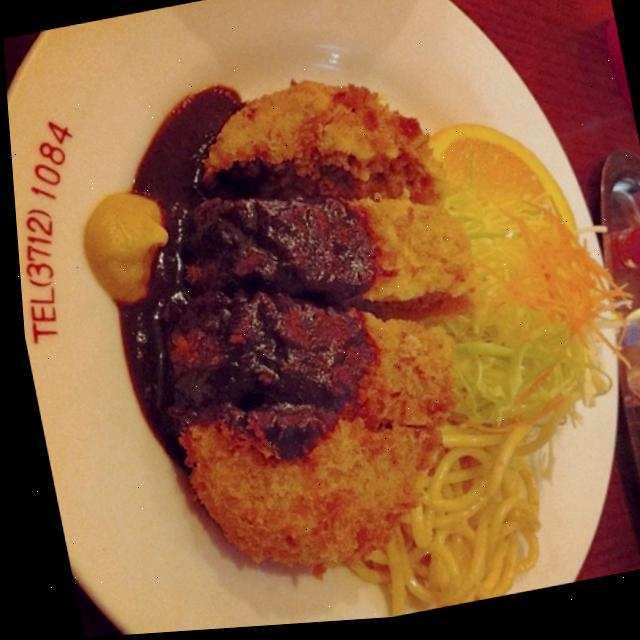炸货点心: (66, 32, 545, 618)
